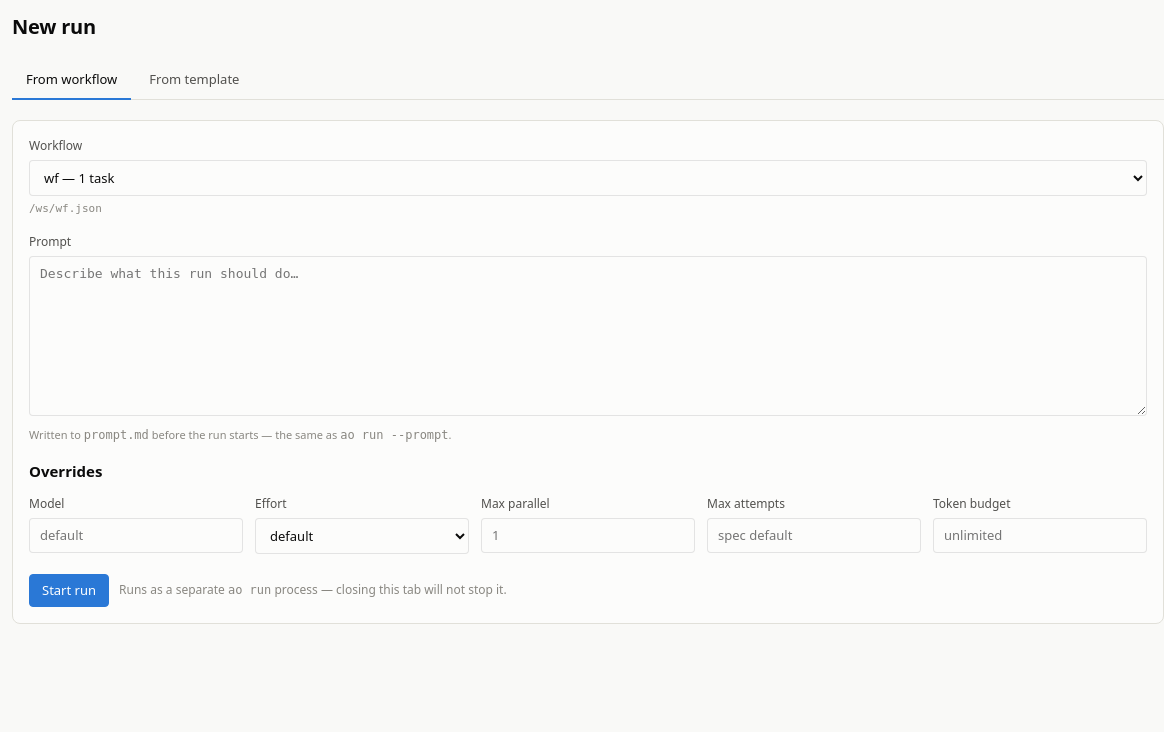
it: NewRun launch flow (classic) › unconfirmed: waits without navigating
The width and height of the screenshot is (1164, 732).
Type "keep me" into the text box labelled "Prompt" at [588, 336], box [29, 256, 1147, 416]
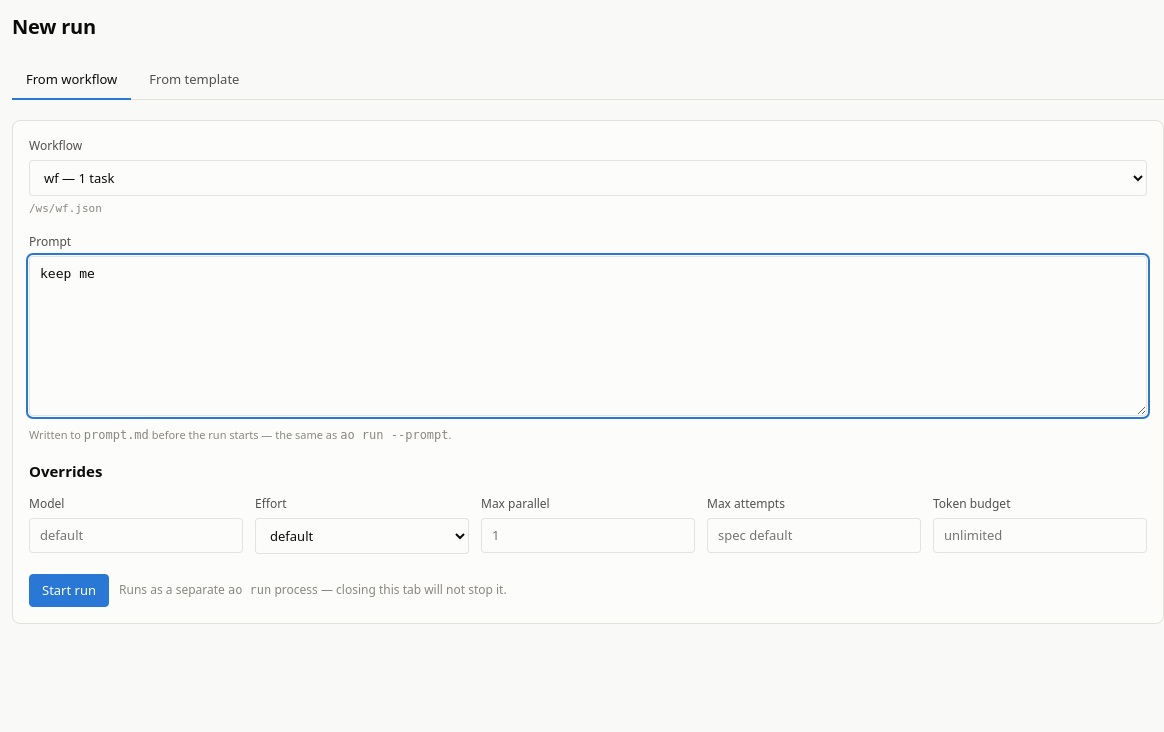
Click the button "Start run" at [69, 590], box [29, 574, 109, 607]
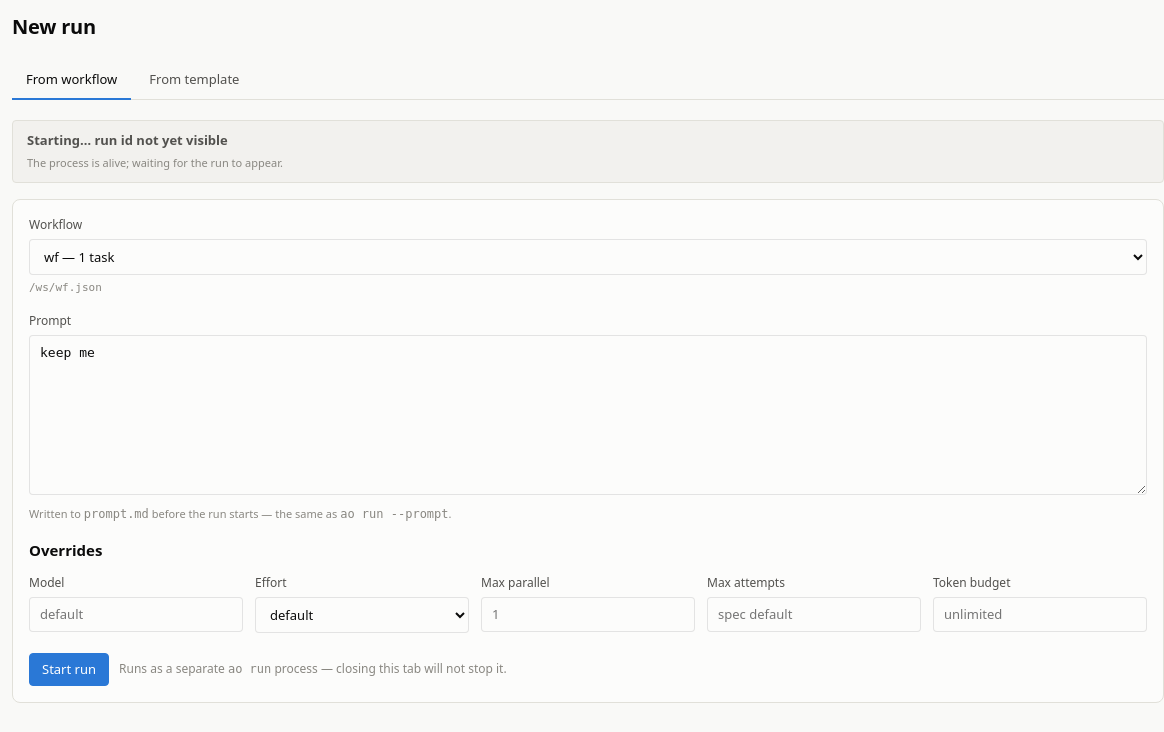
Now the text "Starting… run id not yet visible" is shown, box [27, 130, 228, 148]
